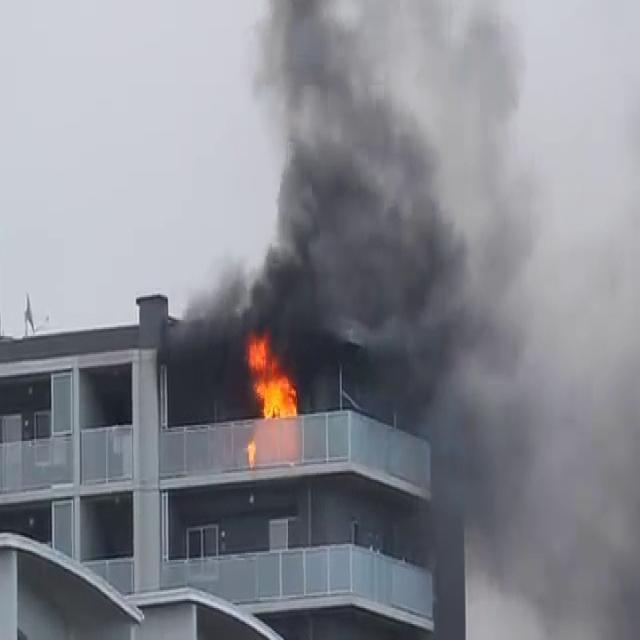Fire: (241, 326, 301, 422)
Smoke: (180, 0, 640, 633)
